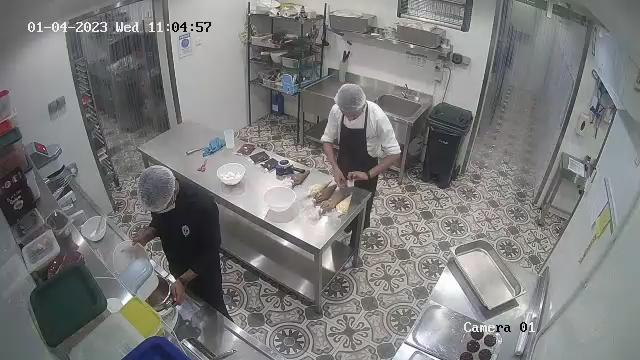apron: (337, 101, 380, 192)
no_apron: (154, 184, 224, 303)
